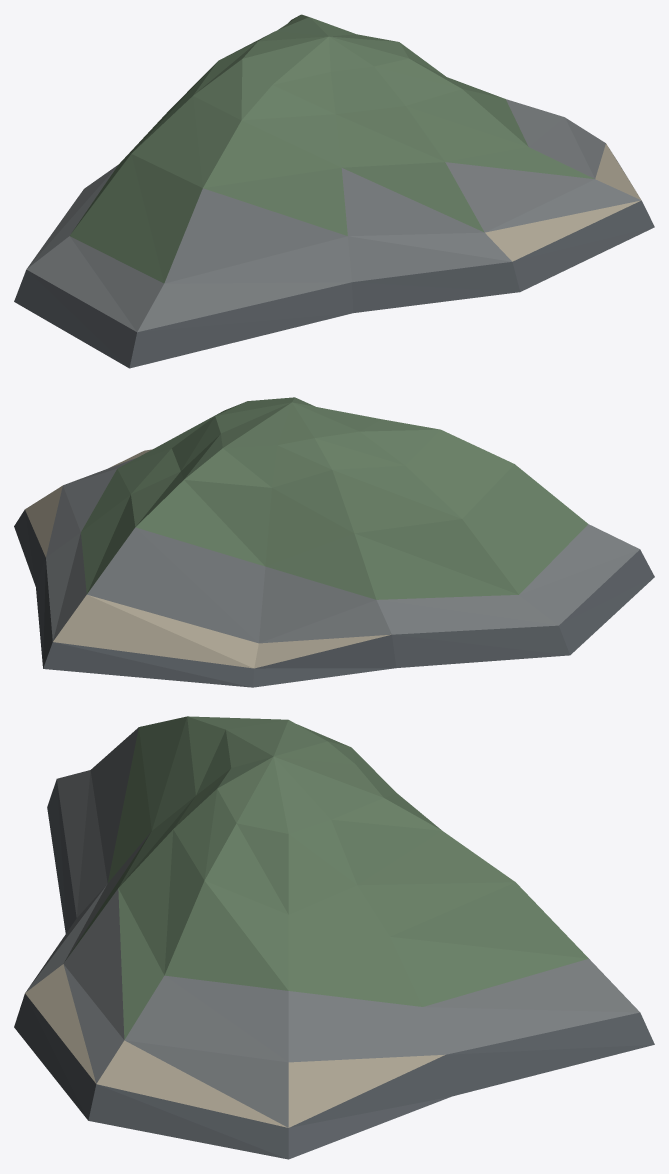
File: haven_lod1.glb
3 views of the same model, one above another, from view 1: azimuth 30°, elevation 25°; view 2: azimuth 150°, elevation 25°; view 3: azimuth 270°, elevation 25° (orthographic). The views are drawn at different scales.
Bounding box in the file's own units: 2.08 × 0.6834 × 1.64.
